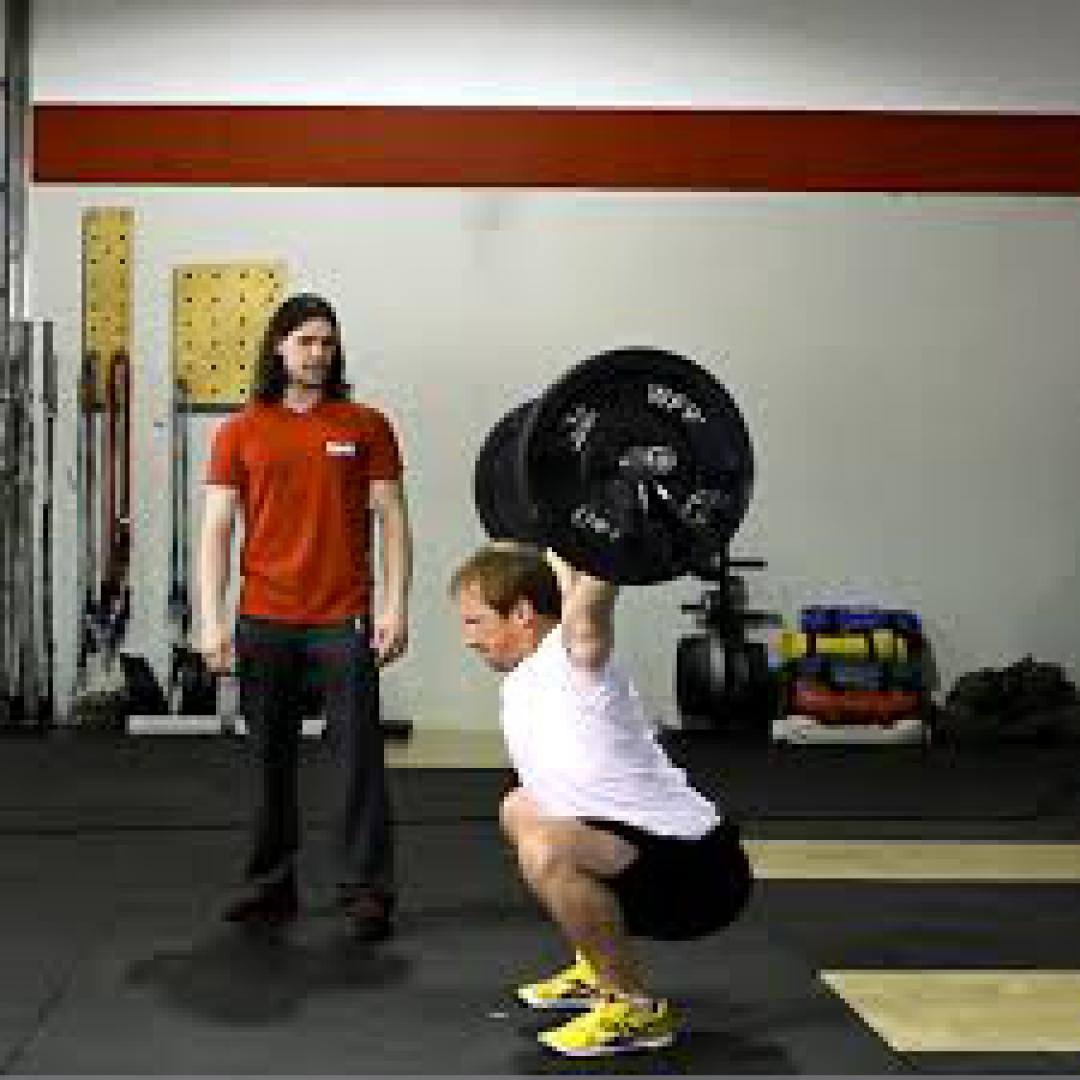Bar: (645, 442, 678, 476)
Barbell: (528, 346, 754, 586)
